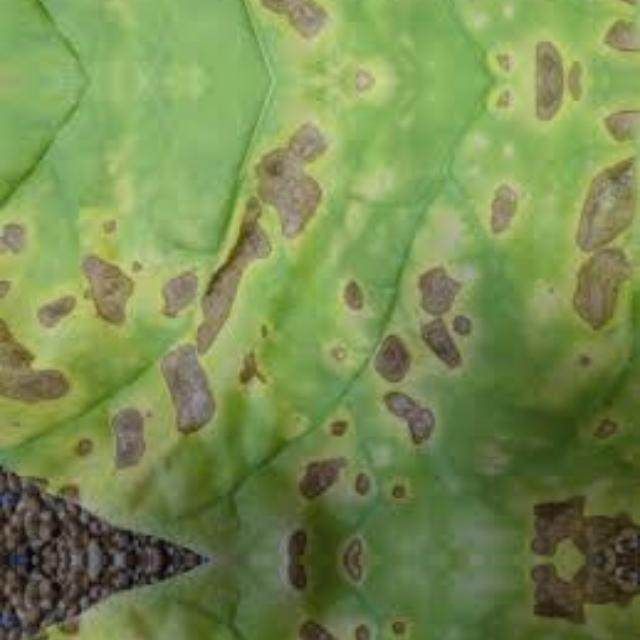Lettuce - Anthracnose: (0, 80, 640, 560), (0, 559, 640, 640), (0, 0, 640, 79)
